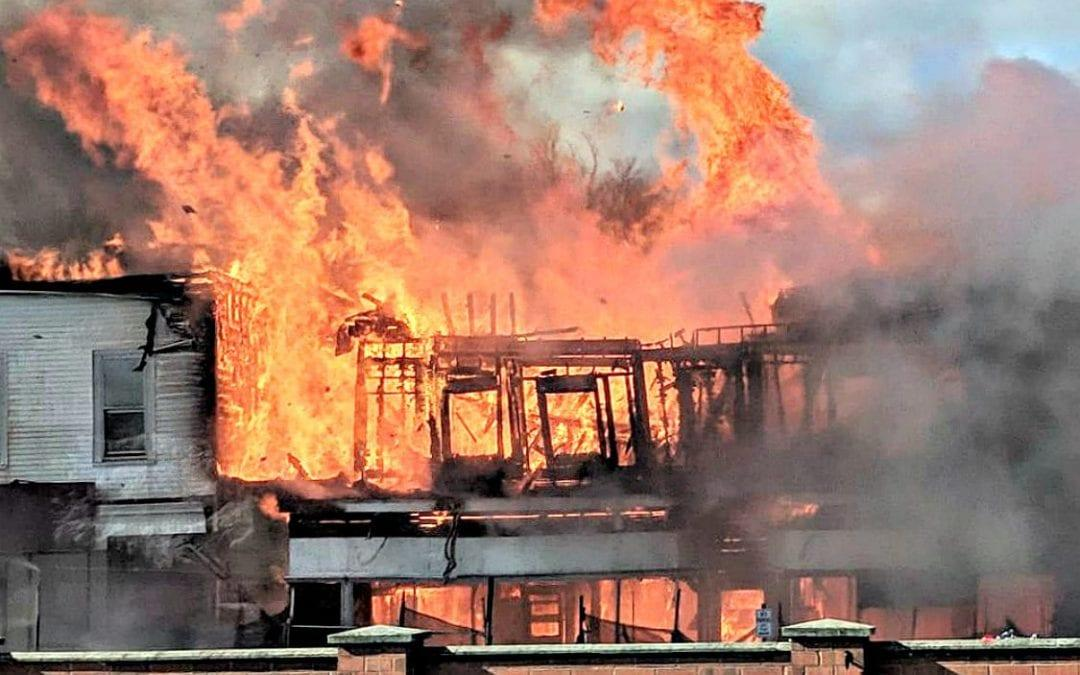Fire: (19, 2, 957, 552)
